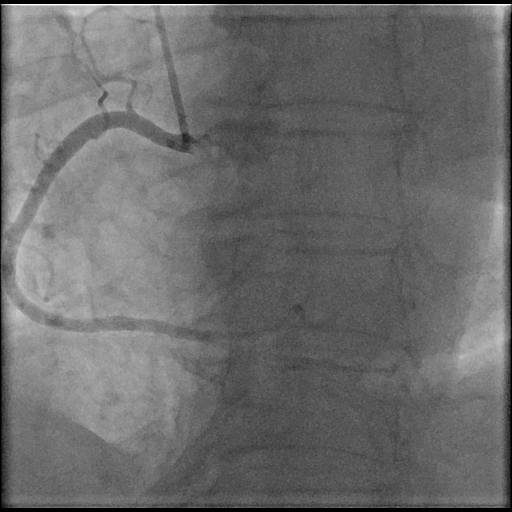RCA: (2, 111, 210, 338)
catherter: (153, 3, 191, 143)
